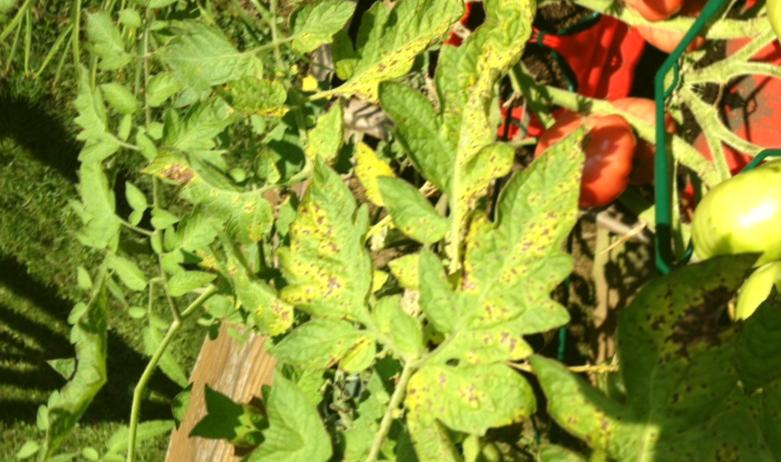Tomato Septoria leaf spot: (360, 93, 624, 455), (524, 205, 781, 462), (359, 1, 562, 228), (259, 154, 403, 329), (297, 0, 478, 129), (394, 417, 593, 462), (203, 54, 305, 137)
